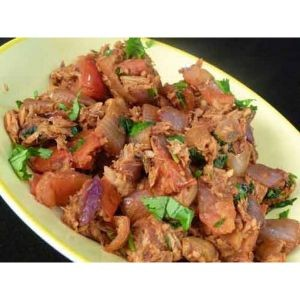tuna_brain food: (16, 58, 276, 252)
